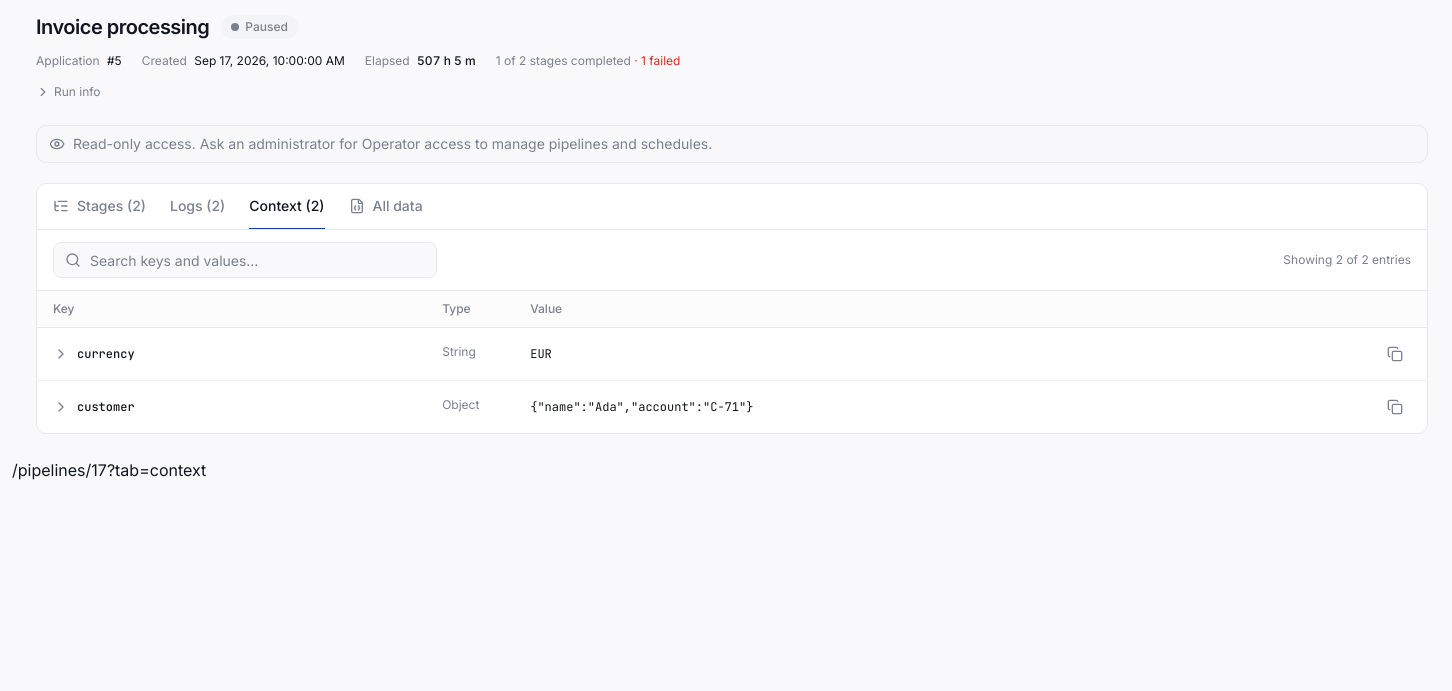
PipelineDetail › searches context values and exposes the complete run data
Type "c-71" into the field named "Search context" at point(245, 260), box left=53, top=242, right=437, bottom=278
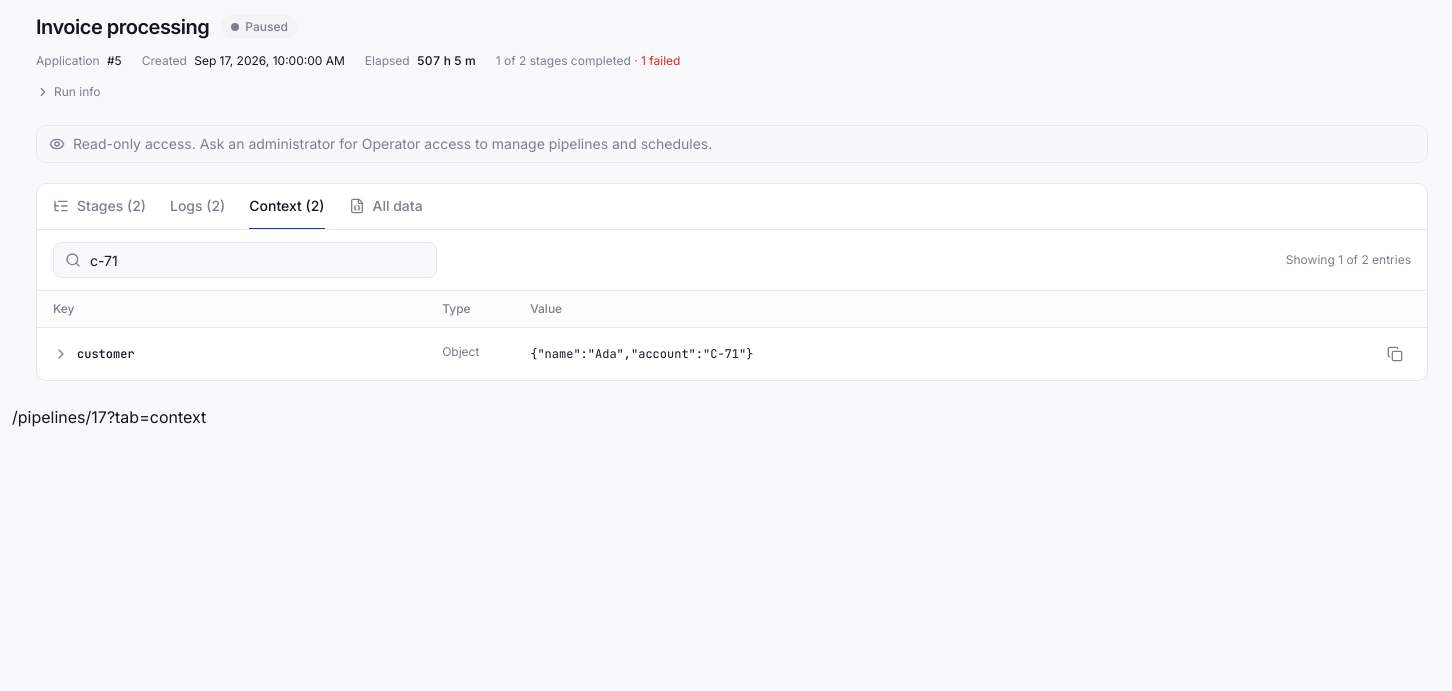
Expected: the text "customer" is shown, left=77, top=344, right=135, bottom=364
Result: the button "currency" is gone
Click the button with aria-label "Expand customer" at point(106, 354), box left=49, top=340, right=406, bottom=368
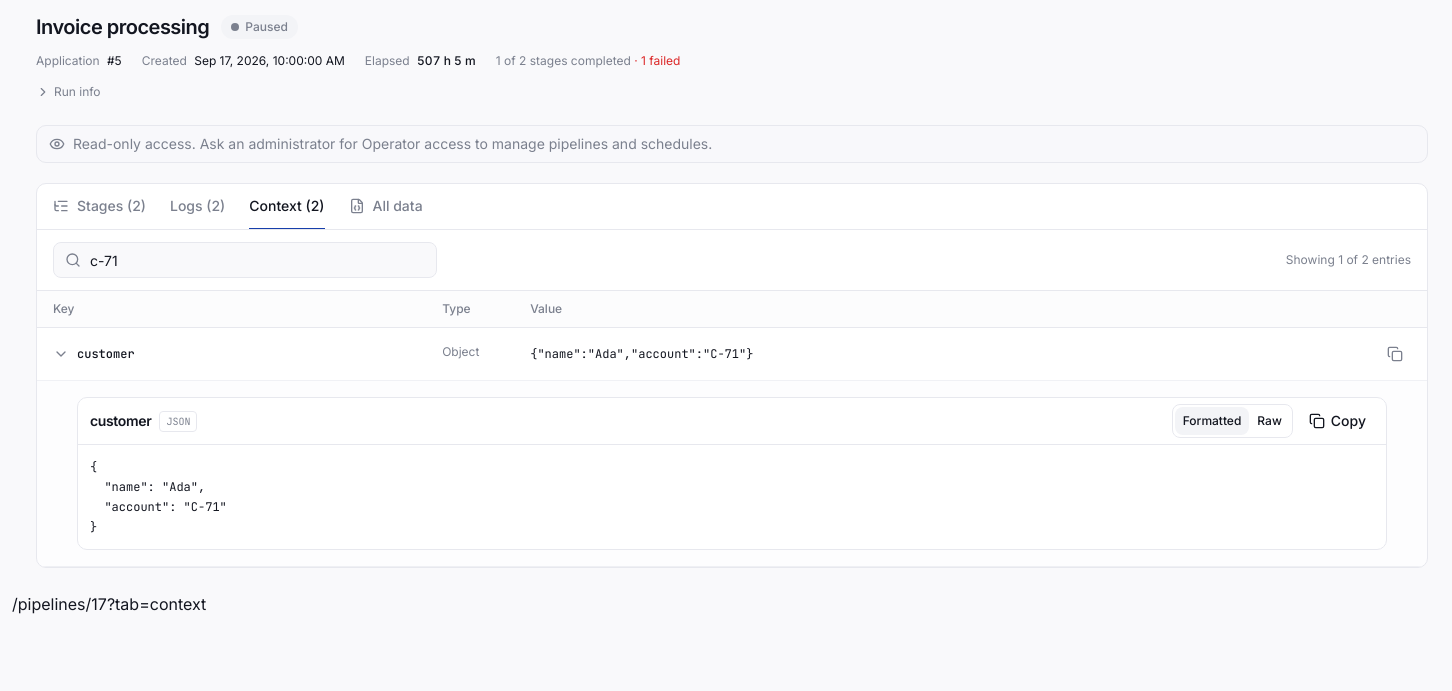
Result: the text named "customer payload" shows "C-71" at left=90, top=459, right=227, bottom=535
Press the mouse on the tab "All data" at point(386, 207), box left=348, top=184, right=423, bottom=230
(page scrolled)
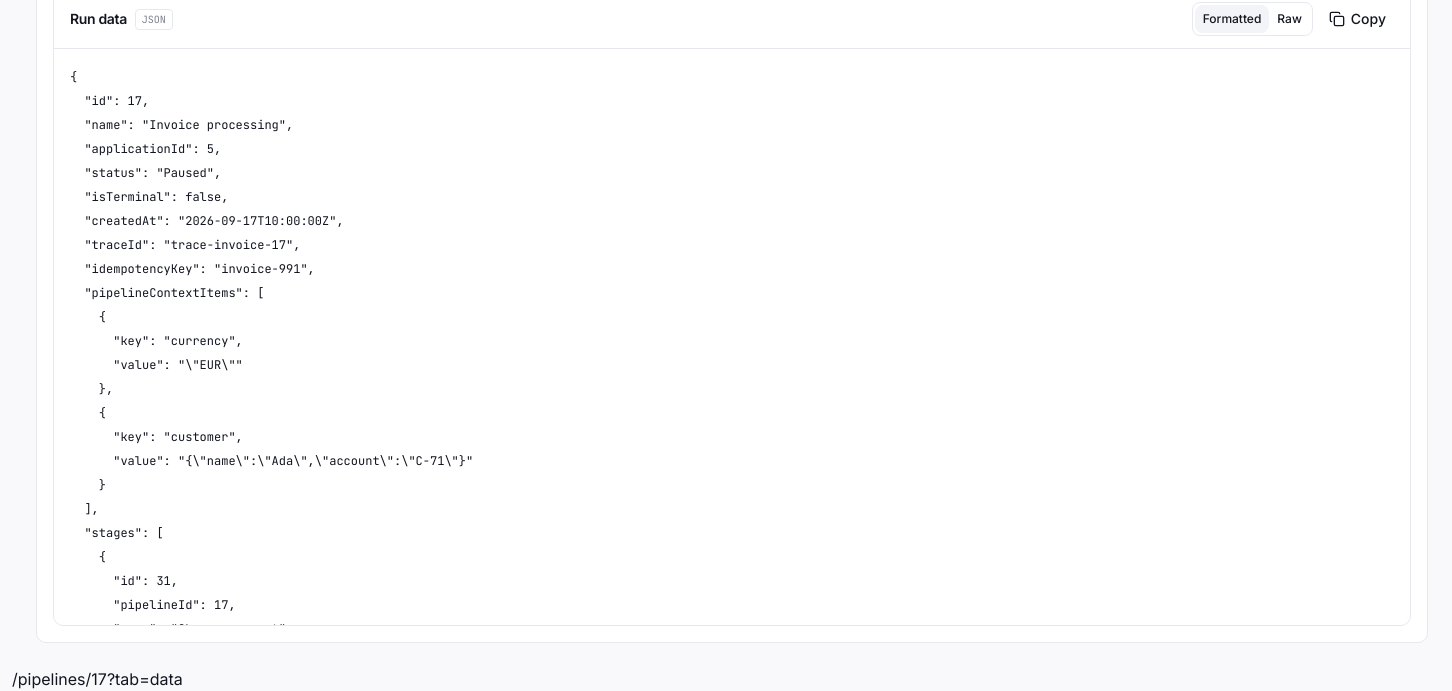
Result: the text with test id "location" reads "/pipelines/17?tab=data" at left=12, top=669, right=183, bottom=689
